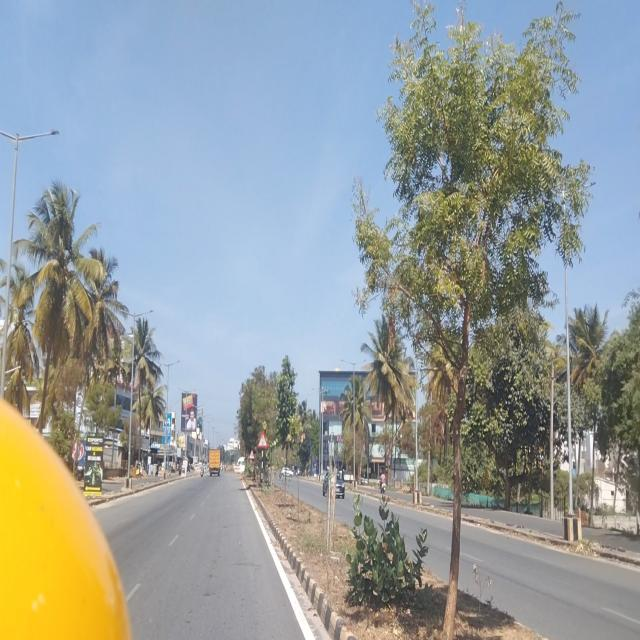bien_cam: (257, 429, 268, 448)
